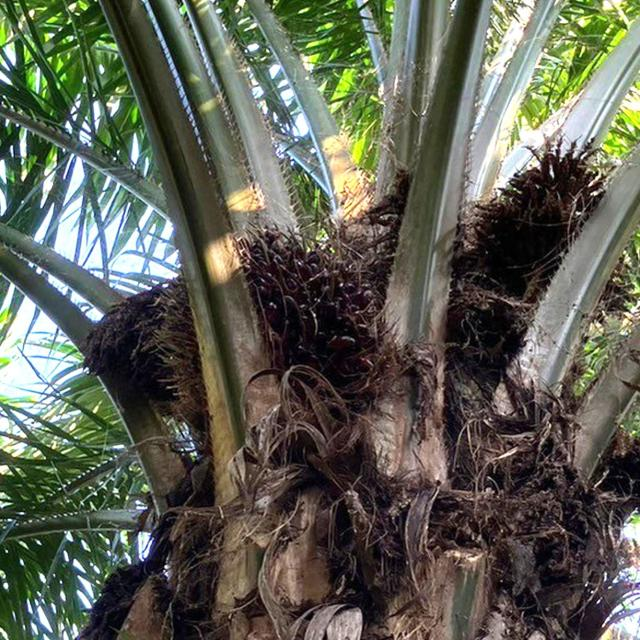ripe: (232, 213, 405, 404)
